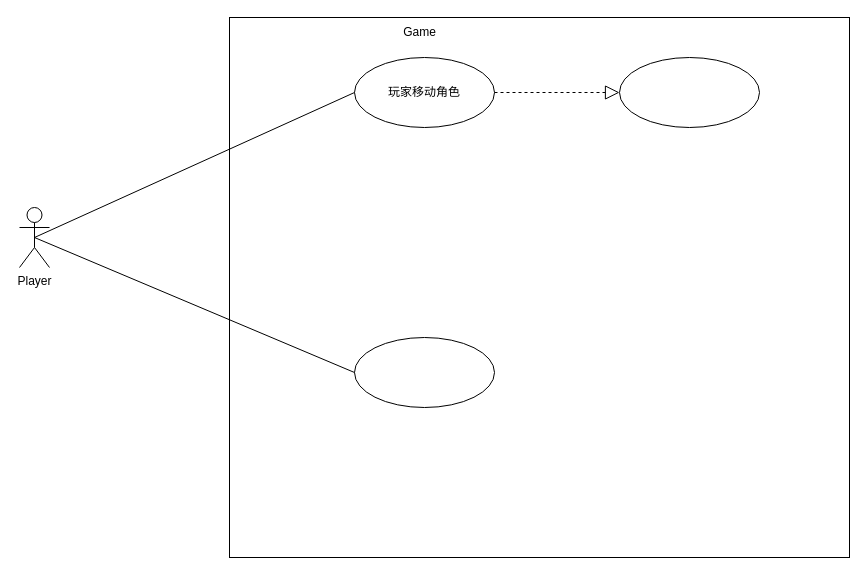
Some shapes in this 867 by 575 pixel diagram are drawn without their labels. Here are the shapes that lost their labels. From the top down, the centre of each, then its label:
(x=689, y=92): 玩家操控角色攻击
(x=424, y=372): 玩家重新开始游戏
